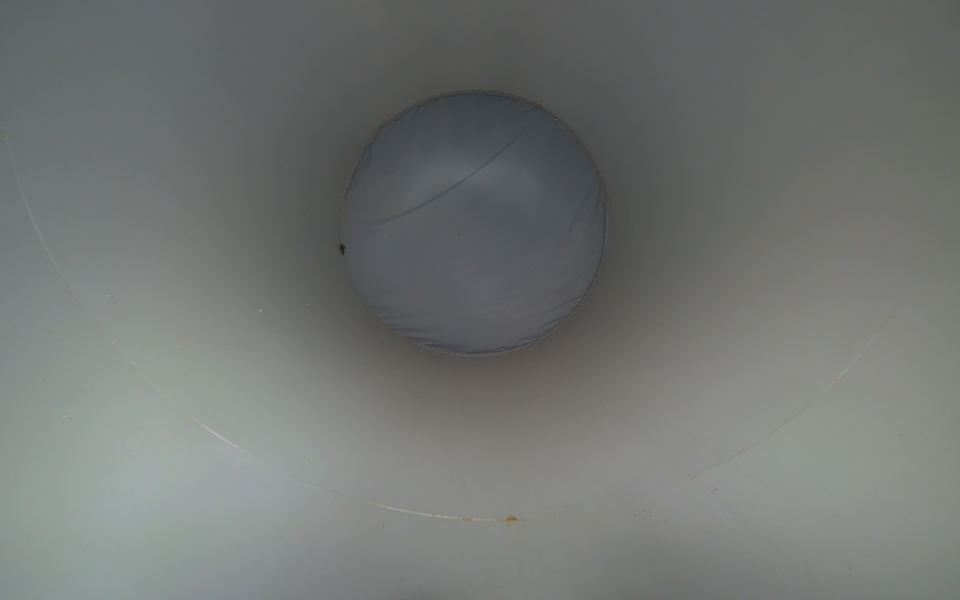circle2: (333, 87, 612, 362)
